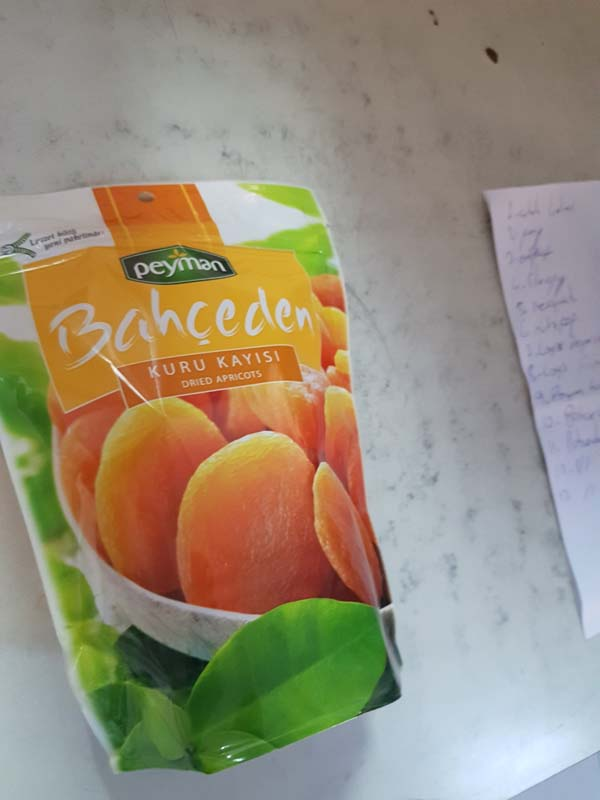bahcedenkurukayisi: (1, 176, 413, 774)
